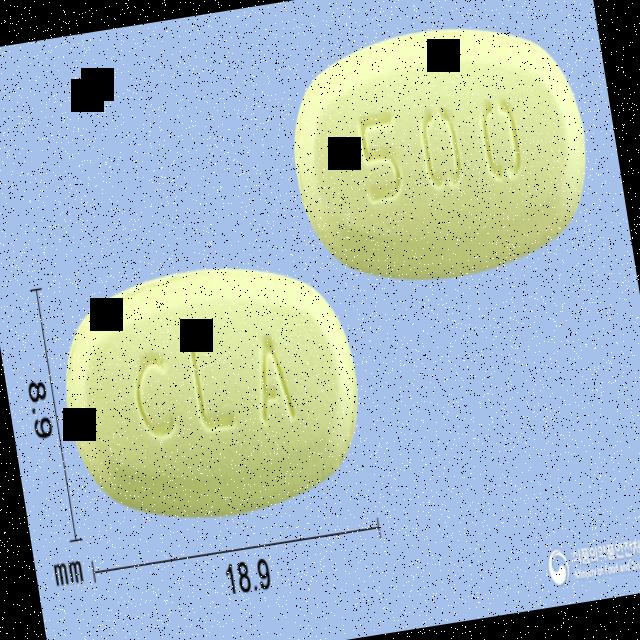Clar: (44, 242, 380, 542), (274, 1, 609, 301)
